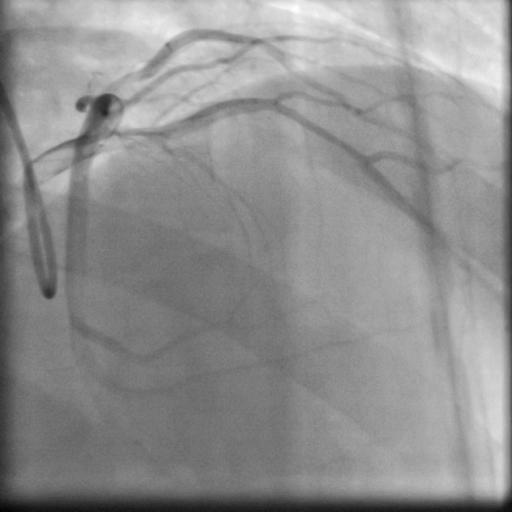Stenosis: (100, 64, 150, 93)
